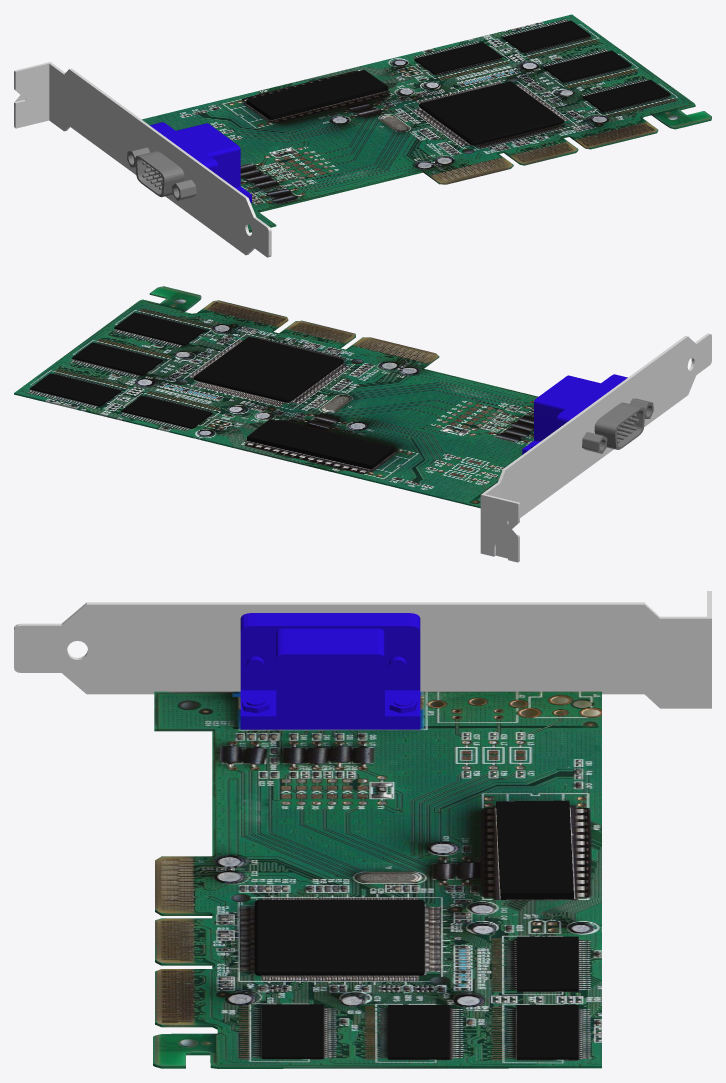
Rendered from CGA.fbx.
3 renders of one model, top to bottom at view 1: azimuth 30°, elevation 25°; view 2: azimuth 150°, elevation 25°; view 3: azimuth 270°, elevation 25°, orthographic. The views are drawn at different scales.
Visible parts, largest first — view 1: Board, MetalSlot, Chip3, Chip1, VGABack, VGAFront, Chip, Chip5, Chip2, Chip4; view 2: Board, MetalSlot, Chip3, Chip1, VGABack, VGAFront, Chip2, Chip4, Chip, Chip5; view 3: Board, MetalSlot, VGABack, Chip3, Chip1, Chip2, Chip4, Chip, Chip5.
Boxes of the visible parts, x1,y1,x2,y2 form: Board: (142,14,711,232); MetalSlot: (14,62,271,257); Chip3: (419,81,564,145); Chip1: (246,70,388,120); VGABack: (150,122,251,203); VGAFront: (127,147,196,200); Chip: (543,50,631,82); Chip5: (503,20,590,52); Chip2: (414,42,502,74); Chip4: (583,80,670,111); Board: (14,286,537,508); MetalSlot: (480,333,711,562); Chip3: (193,336,343,402); Chip1: (247,419,394,469); VGABack: (522,374,627,454); VGAFront: (582,398,653,453); Chip2: (121,395,212,428); Chip4: (114,312,204,345); Chip: (72,342,162,375); Chip5: (30,373,120,406); Board: (153,691,601,1068); MetalSlot: (14,591,711,708); VGABack: (240,613,420,729); Chip3: (255,899,424,975); Chip1: (496,800,573,899); Chip2: (517,936,578,991); Chip4: (262,1004,323,1058); Chip: (388,1005,449,1059); Chip5: (517,1005,578,1059).
Bounding box in the file's own units: 383 × 46.11 × 280.
